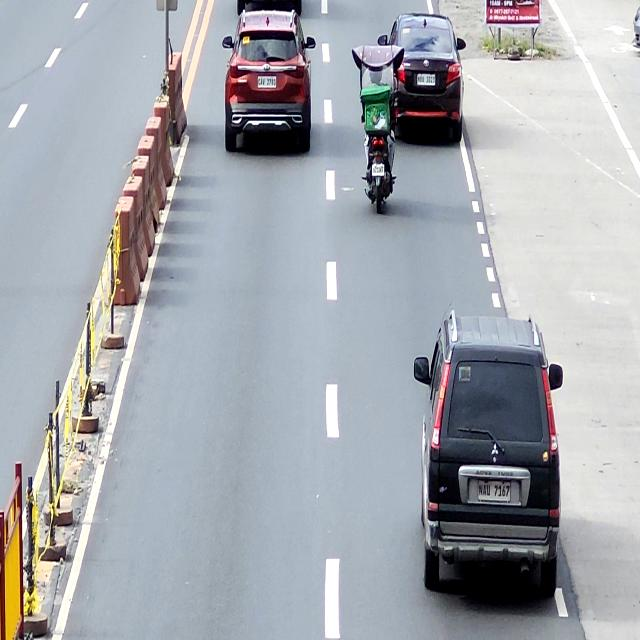Car: (414, 308, 564, 595), (221, 10, 317, 156), (376, 11, 468, 148)
License-Plate: (476, 478, 512, 503), (257, 75, 277, 89), (416, 74, 436, 85), (372, 163, 386, 176)
Motorcycle: (357, 96, 402, 216)
